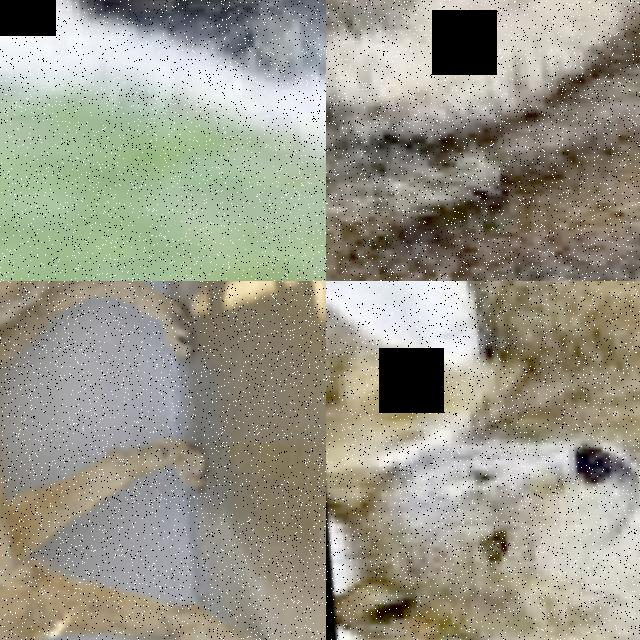dog: (0, 0, 326, 220)
wolf: (326, 281, 640, 640), (0, 281, 283, 640), (326, 0, 640, 281), (326, 281, 486, 527)
